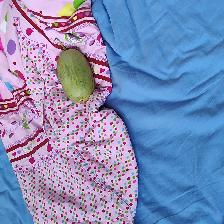gua: (59, 48, 88, 102)
